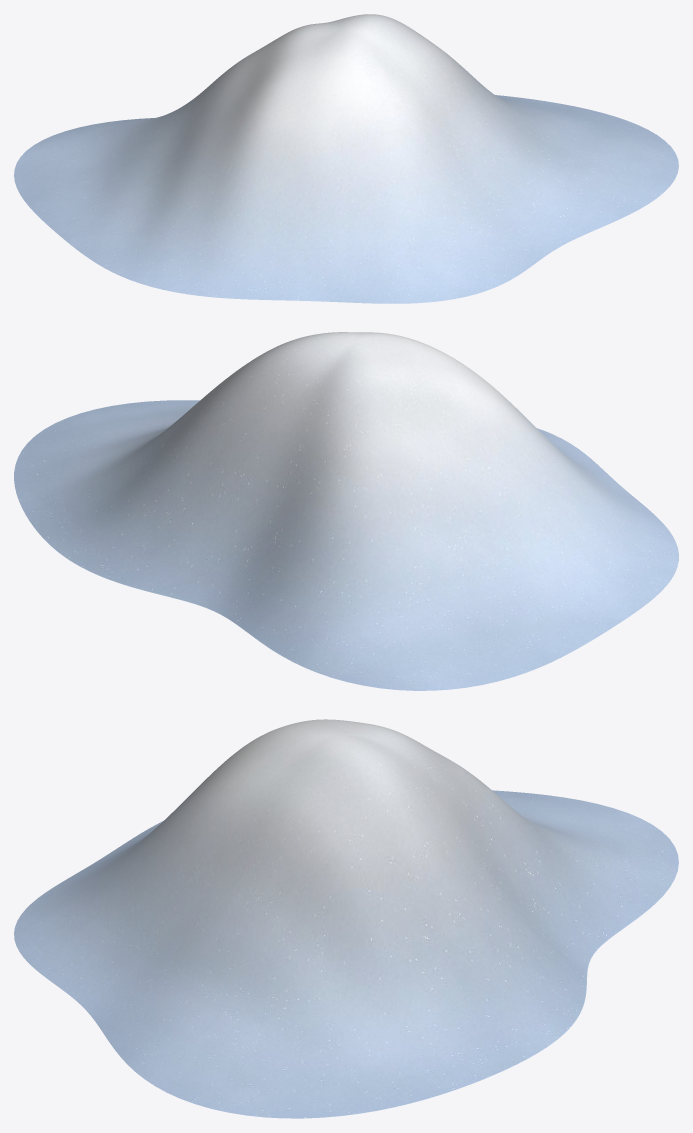
File: snowdrift.obj
3 views of the same model, one above another, from view 1: azimuth 30°, elevation 25°; view 2: azimuth 150°, elevation 25°; view 3: azimuth 270°, elevation 25° (orthographic). The views are drawn at different scales.
Visible parts, largest first — view 1: Snowdrift; view 2: Snowdrift; view 3: Snowdrift.
Part boxes in pixels (x1,y1,x2,y2): Snowdrift: (14, 14, 678, 303); Snowdrift: (14, 332, 678, 690); Snowdrift: (14, 719, 678, 1118).
Size of the model in its own units: 5.26 by 1.53 by 4.45.
Materials: 1 (1 with a texture image).
